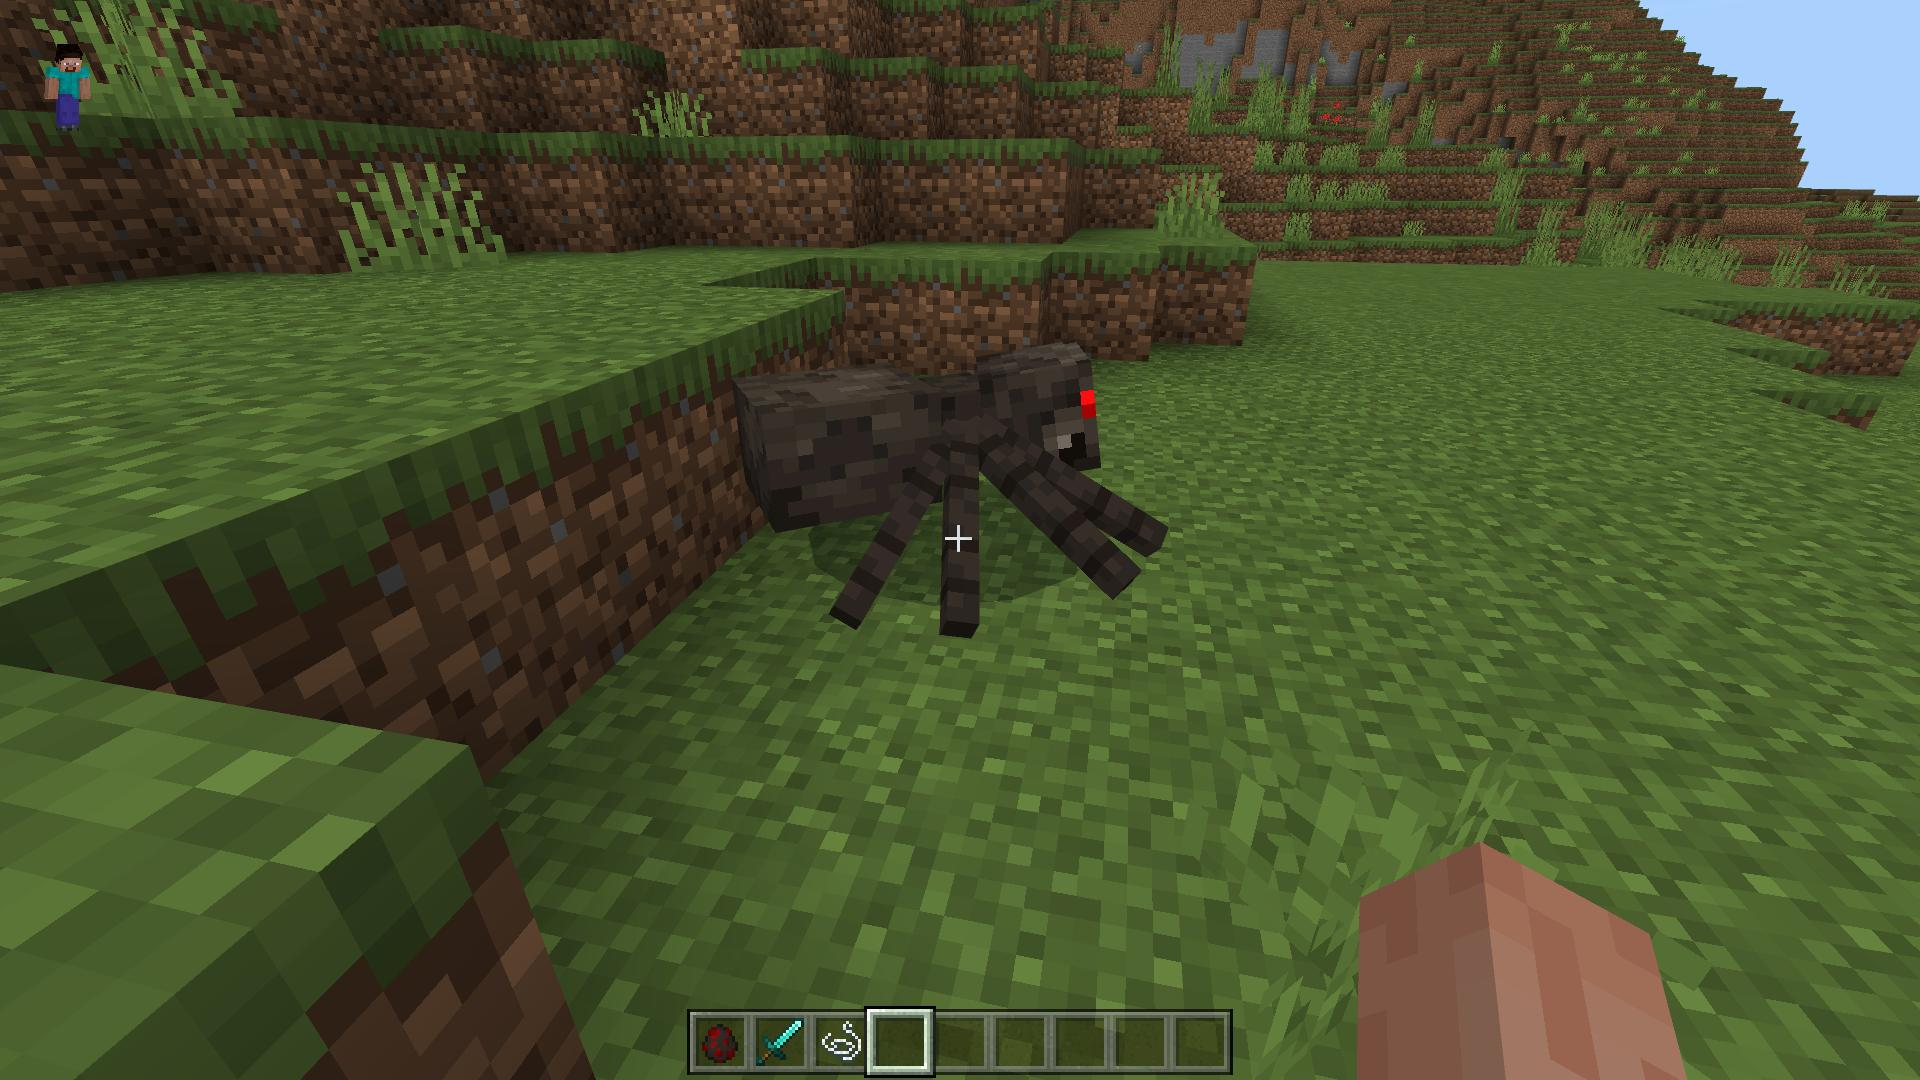spider: (725, 340, 1170, 640)
